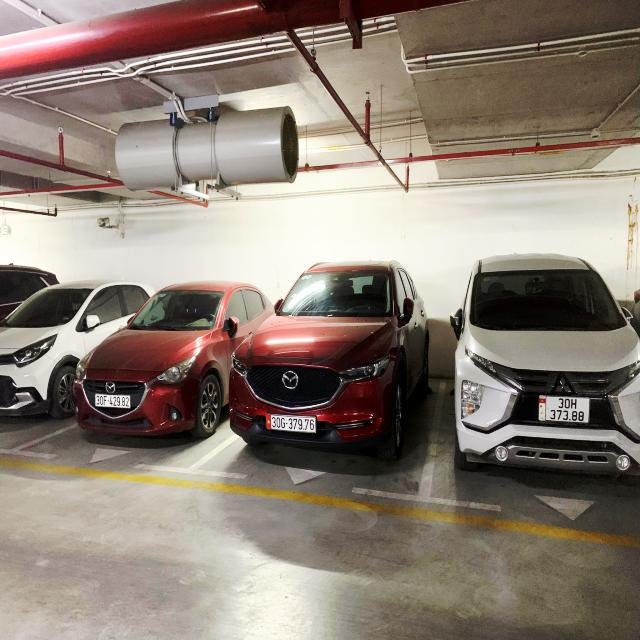license_plate: (539, 396, 591, 425), (267, 414, 318, 434), (96, 394, 132, 409)
